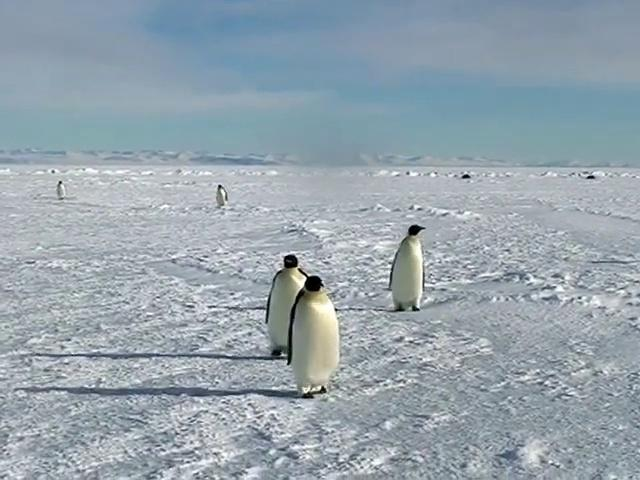animal: (389, 225, 424, 310)
